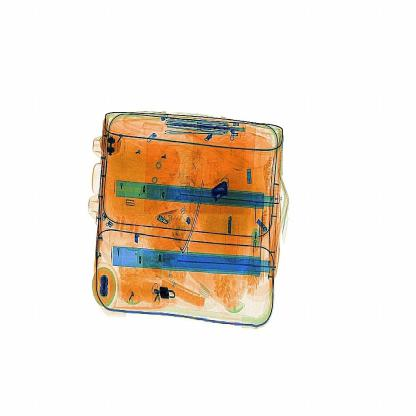knife: (212, 181, 233, 203)
